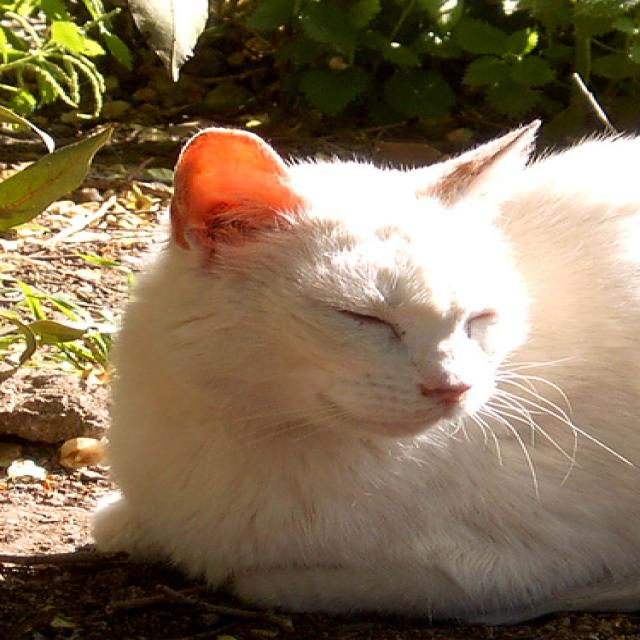left eye: (459, 306, 498, 340)
